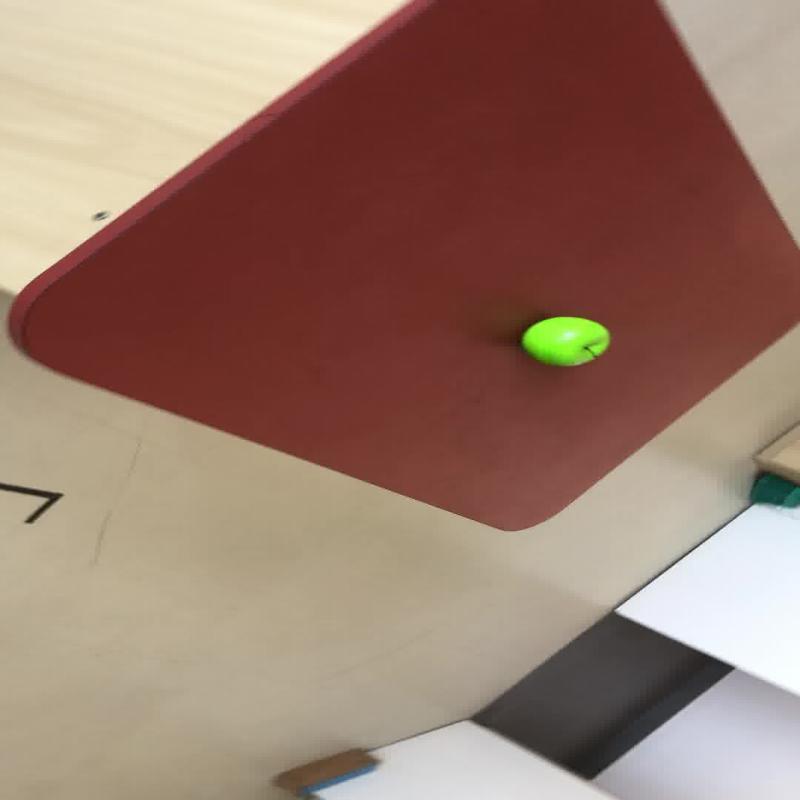apple: (519, 316, 610, 366)
